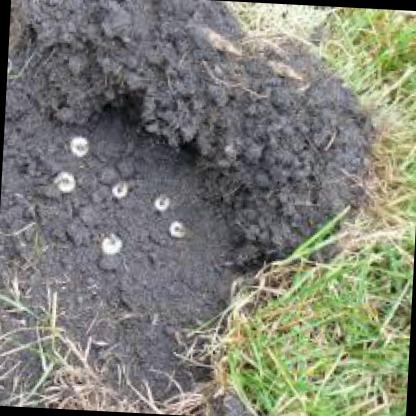root grubs: (53, 172, 76, 194), (100, 233, 121, 256), (69, 136, 89, 158)
